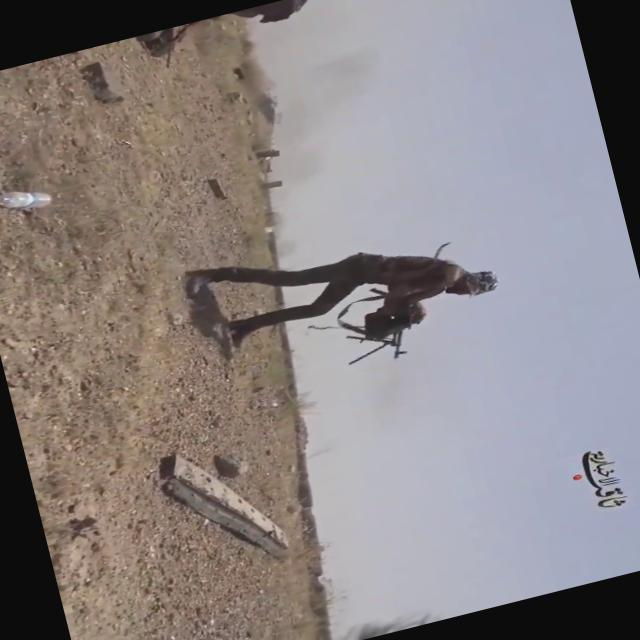long weapon: (342, 289, 439, 372)
